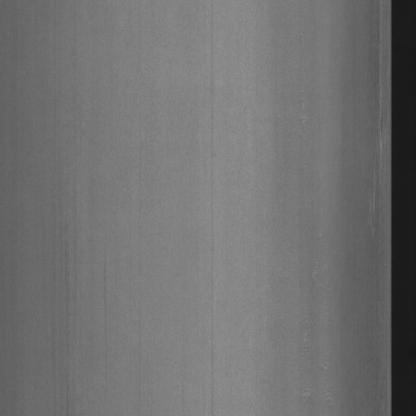silk_spot: (353, 84, 387, 237)
